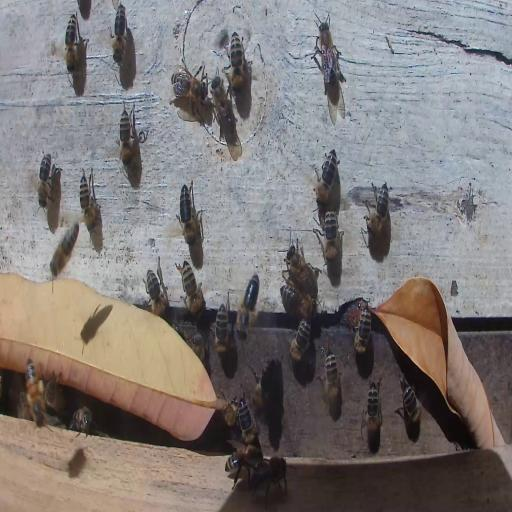bee: (313, 19, 343, 92), (234, 267, 262, 343), (177, 177, 204, 247), (24, 356, 48, 430), (171, 65, 209, 108), (312, 148, 339, 206), (79, 167, 101, 237), (210, 78, 236, 136), (178, 260, 204, 317), (250, 457, 288, 496), (51, 224, 79, 276), (281, 284, 319, 322), (285, 244, 317, 289), (398, 377, 424, 432), (365, 180, 391, 235), (318, 208, 342, 265), (225, 444, 262, 480), (322, 348, 343, 411), (145, 259, 168, 315), (253, 361, 277, 413), (352, 303, 373, 354), (228, 30, 244, 96), (288, 316, 310, 362), (118, 105, 133, 171), (364, 378, 382, 433), (112, 2, 127, 65), (237, 397, 257, 442), (64, 12, 78, 76), (214, 302, 230, 354), (38, 151, 52, 209), (68, 407, 94, 434), (45, 379, 58, 410)
